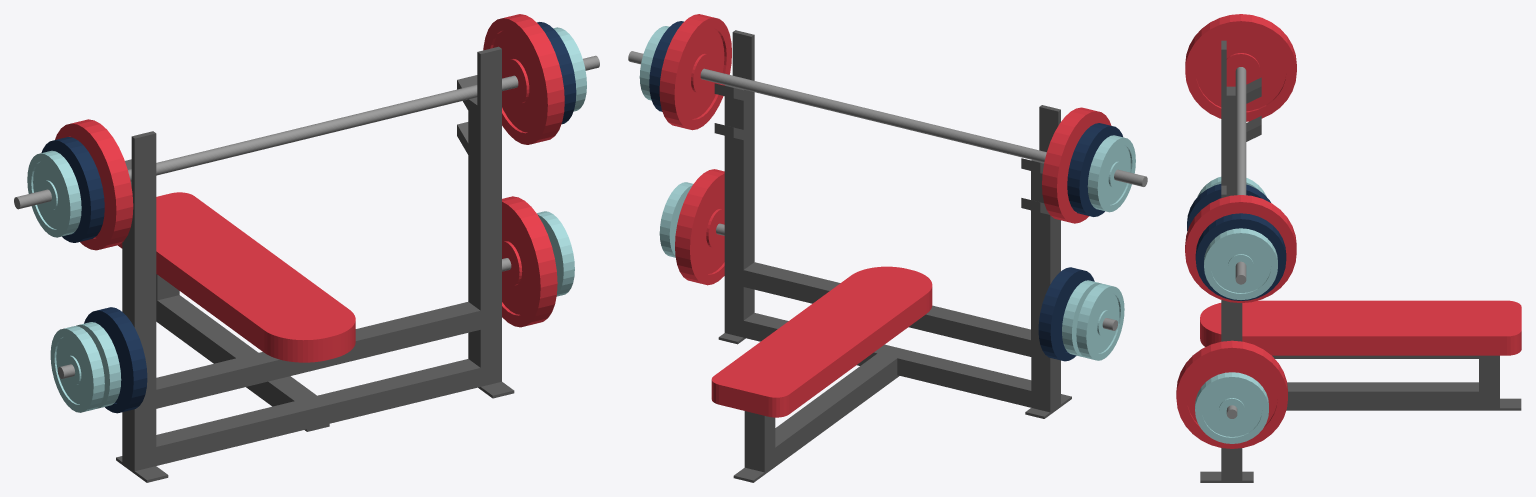
File: Bench Press Ver1 Lv2.fbx
The picture shows the model from 3 angles, left to right: view 1: azimuth 30°, elevation 25°; view 2: azimuth 150°, elevation 25°; view 3: azimuth 270°, elevation 25°; orthographic projection. The views are drawn at different scales.
Parts seen in each view (by area): view 1: Bench Press Ver1 Lv2, Bench Press 1 Weight 3.001, Bench Press 1 Weight 3.002, Bench Press 1 Bar, Bench Press 1 Weight 3, Bench Press 1 Weight 1.004, Bench Press 1 Weight 1, Bench Press 1 Weight 2.002, Bench Press 1 Weight 2, Bench Press 1 Weight 1.002, Bench Press 1 Weight 1.003, Bench Press 1 Weight 2.001 (+1 smaller); view 2: Bench Press Ver1 Lv2, Bench Press 1 Weight 3.001, Bench Press 1 Weight 3.002, Bench Press 1 Bar, Bench Press 1 Weight 3, Bench Press 1 Weight 1.004, Bench Press 1 Weight 1, Bench Press 1 Weight 2.002, Bench Press 1 Weight 2, Bench Press 1 Weight 1.002, Bench Press 1 Weight 1.003, Bench Press 1 Weight 2.001 (+1 smaller); view 3: Bench Press Ver1 Lv2, Bench Press 1 Weight 3, Bench Press 1 Weight 3.002, Bench Press 1 Weight 1.002, Bench Press 1 Weight 1.001, Bench Press 1 Weight 3.001, Bench Press 1 Weight 2.001, Bench Press 1 Bar, Bench Press 1 Weight 2.002.
Part boxes in pixels (box(x1,y1,x2,y2)): Bench Press Ver1 Lv2: box(116, 46, 514, 482); Bench Press 1 Weight 3.001: box(483, 14, 564, 144); Bench Press 1 Weight 3.002: box(502, 196, 557, 327); Bench Press 1 Bar: box(14, 55, 599, 209); Bench Press 1 Weight 3: box(55, 119, 133, 250); Bench Press 1 Weight 1.004: box(50, 326, 104, 412); Bench Press 1 Weight 1: box(27, 150, 81, 237); Bench Press 1 Weight 2.002: box(84, 307, 147, 413); Bench Press 1 Weight 2: box(41, 137, 104, 242); Bench Press 1 Weight 1.002: box(537, 211, 574, 296); Bench Press 1 Weight 1.003: box(76, 322, 121, 408); Bench Press 1 Weight 2.001: box(537, 22, 576, 124); Bench Press Ver1 Lv2: box(711, 30, 1071, 482); Bench Press 1 Weight 3.001: box(659, 14, 731, 130); Bench Press 1 Weight 3.002: box(675, 169, 724, 285); Bench Press 1 Bar: box(628, 51, 1147, 186); Bench Press 1 Weight 3: box(1042, 107, 1111, 223); Bench Press 1 Weight 1.004: box(1076, 283, 1124, 360); Bench Press 1 Weight 1: box(1087, 135, 1135, 212); Bench Press 1 Weight 2.002: box(1038, 267, 1094, 361); Bench Press 1 Weight 2: box(1067, 123, 1122, 216); Bench Press 1 Weight 1.002: box(659, 182, 693, 257); Bench Press 1 Weight 1.003: box(1062, 280, 1101, 357); Bench Press 1 Weight 2.001: box(649, 21, 683, 111); Bench Press Ver1 Lv2: box(1200, 40, 1521, 482); Bench Press 1 Weight 3: box(1185, 14, 1296, 121); Bench Press 1 Weight 3.002: box(1176, 340, 1287, 448); Bench Press 1 Weight 1.002: box(1195, 372, 1268, 443); Bench Press 1 Weight 1.001: box(1204, 228, 1277, 299); Bench Press 1 Weight 3.001: box(1185, 195, 1296, 302); Bench Press 1 Weight 2.001: box(1195, 213, 1286, 300); Bench Press 1 Bar: box(1235, 67, 1246, 284); Bench Press 1 Weight 2.002: box(1187, 184, 1270, 231).
Bounding box in the file's own units: 537 × 307 × 322.
